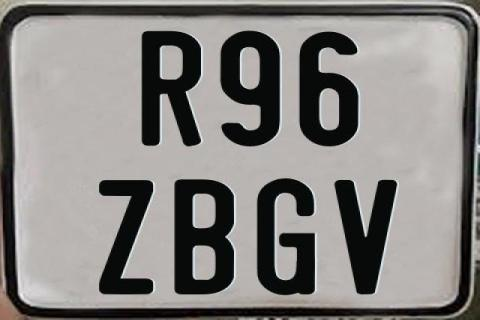0: (218, 30, 278, 150), (299, 30, 359, 148)
B: (173, 179, 234, 297)
G: (256, 176, 315, 294)
R: (140, 30, 201, 148)
V: (332, 178, 400, 296)
Z: (99, 178, 156, 298)
